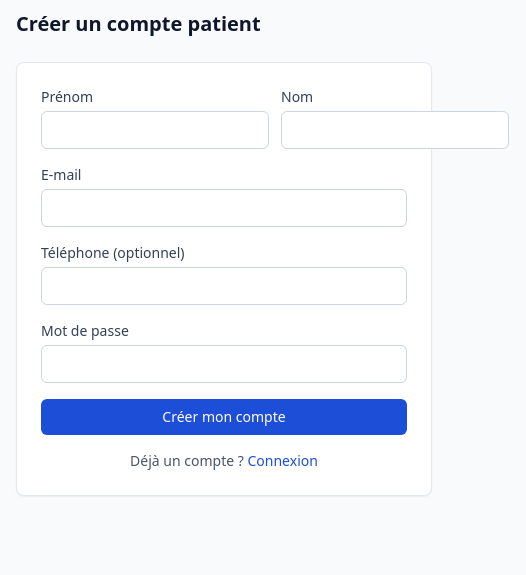
it: RegisterPage › affiche une erreur API en cas d'échec (ex. email déjà utilisé)
Type "Fatima" into the field labelled "Prénom".
click(155, 130); type("Fatima")  # box left=41, top=111, right=269, bottom=149
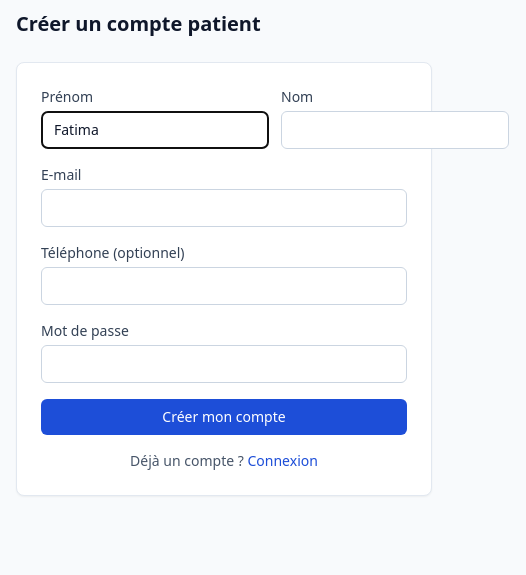
Type "Alaoui" into the field labelled "Nom".
click(395, 130); type("Alaoui")  # box left=281, top=111, right=509, bottom=149
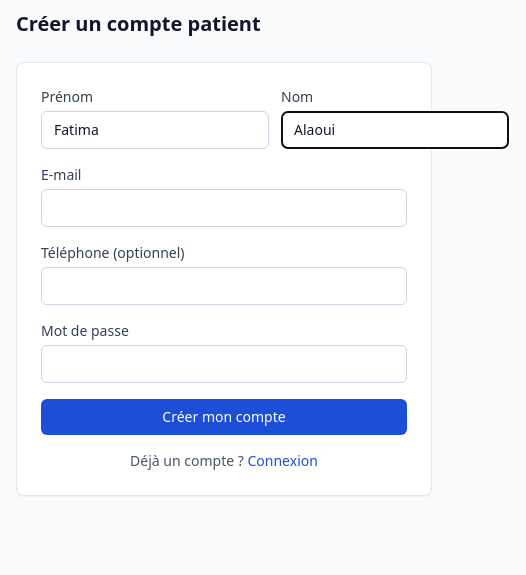
Type "fatima@medilink.local" into the field labelled "E-mail".
click(224, 208); type("fatima@medilink.local")  # box left=41, top=189, right=407, bottom=227
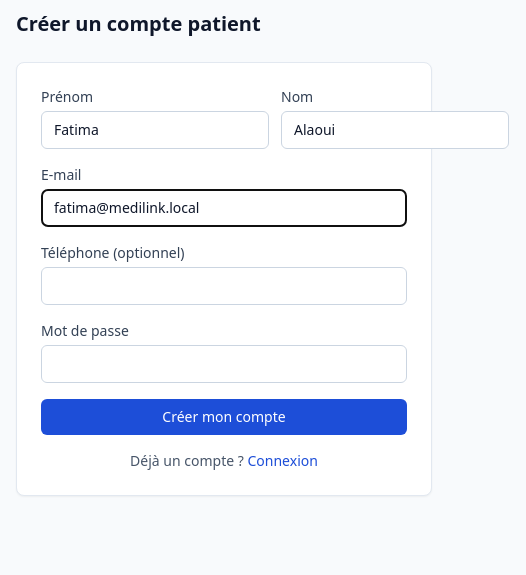
Type "correct-horse-battery" into the password field labelled "Mot de passe".
click(224, 364); type("correct-horse-battery")  # box left=41, top=345, right=407, bottom=383
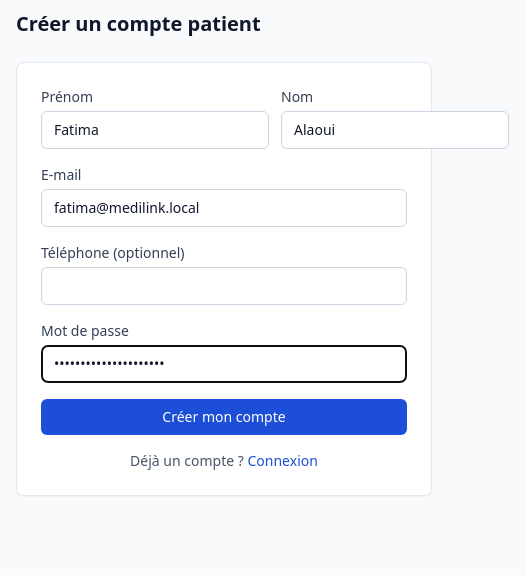
Click the button "Créer mon compte".
click(224, 417)  # box left=41, top=399, right=407, bottom=435
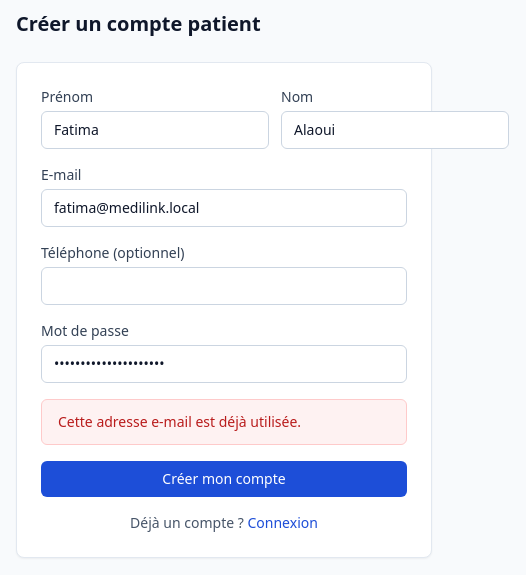
expect the text "Cette adresse e-mail est déjà utilisée." is shown: met, box left=41, top=399, right=407, bottom=445
